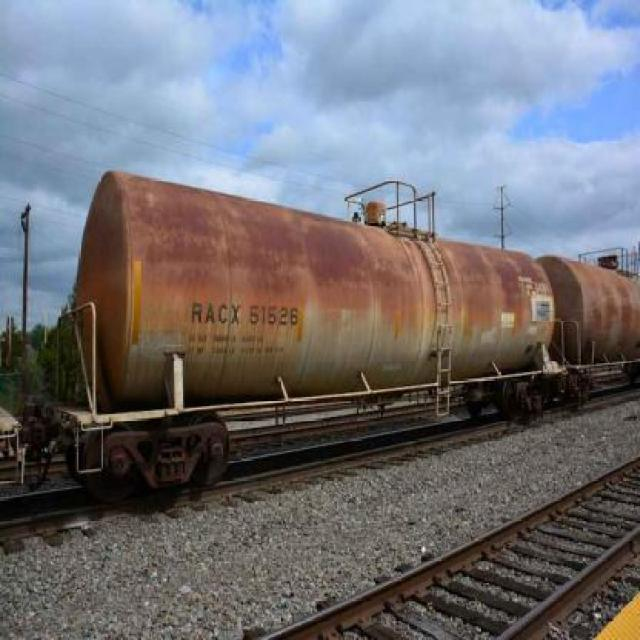corrosion: (69, 167, 557, 405), (540, 248, 640, 367)
